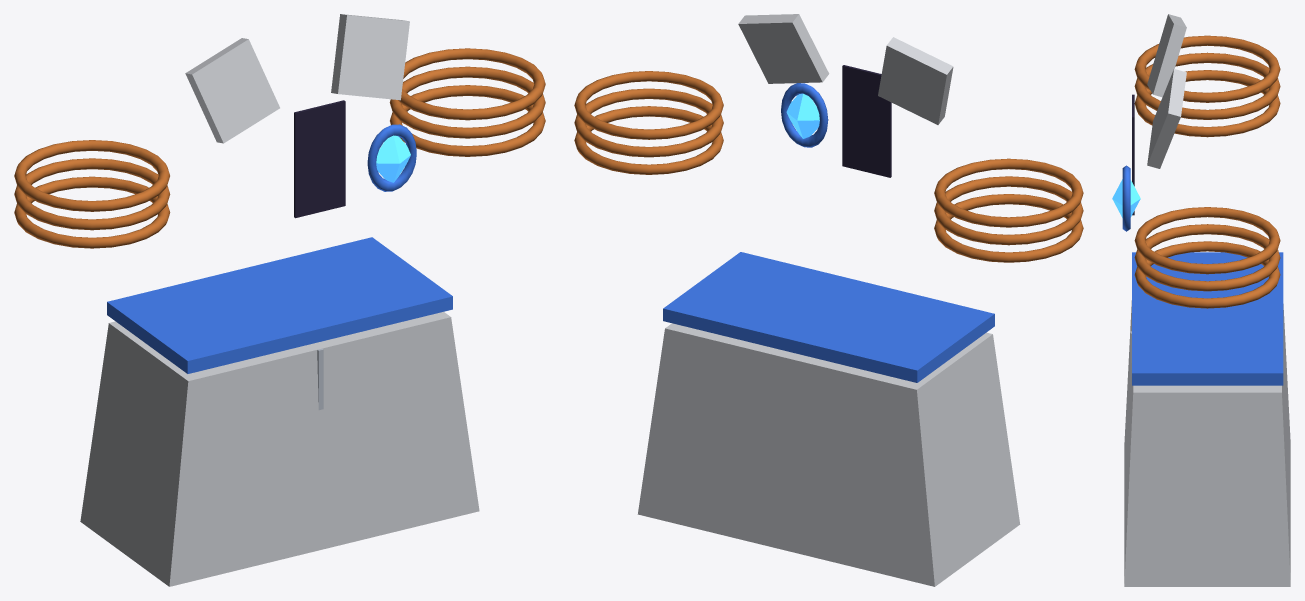
Rendered from eqf_eqgw1.glb.
3 views of the same model, side by side, from view 1: azimuth 30°, elevation 25°; view 2: azimuth 150°, elevation 25°; view 3: azimuth 270°, elevation 25° (orthographic). The views are drawn at different scales.
Bounding box in the file's own units: 4.08 × 3.84 × 1.32.
